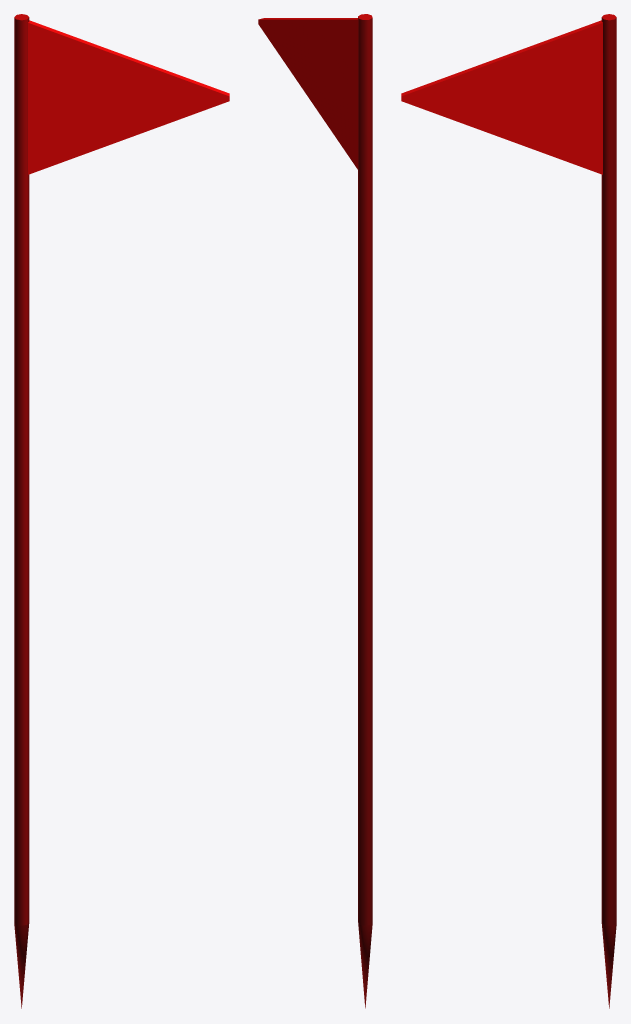
The model's file is Flagpole.glb.
The picture shows the model from 3 angles, left to right: view 1: azimuth 90°, elevation 25°; view 2: azimuth 210°, elevation 25°; view 3: azimuth 270°, elevation 25°; orthographic projection.
Visible parts, largest first — view 1: Flagpole; view 2: Flagpole; view 3: Flagpole.
Part boxes in pixels (x1=…): Flagpole: x1=14, y1=14, x2=229, y2=1008; Flagpole: x1=258, y1=14, x2=372, y2=1008; Flagpole: x1=401, y1=14, x2=616, y2=1008.
Size of the model in its own units: 0.1015 by 7.36 by 1.45.
